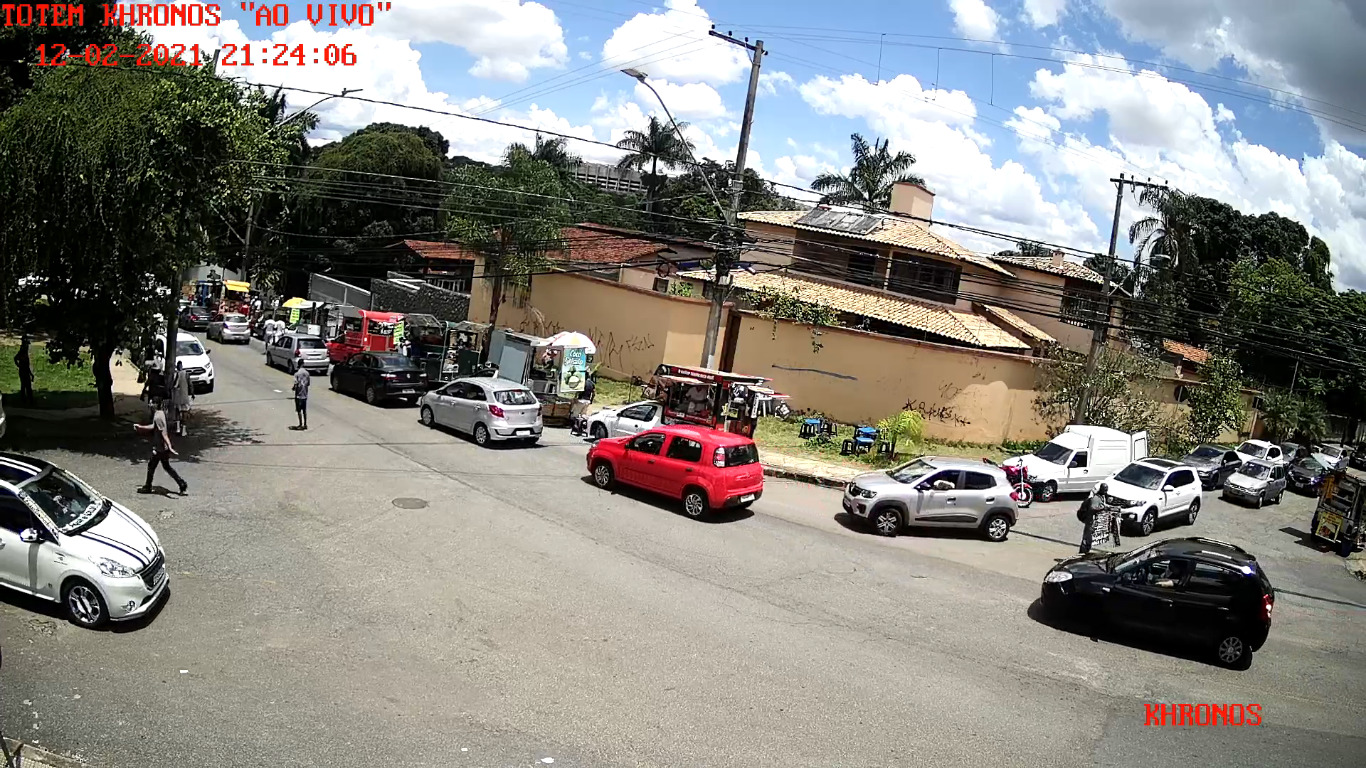car: (1039, 536, 1274, 667), (1, 449, 169, 627), (585, 421, 765, 518), (842, 456, 1018, 541), (420, 376, 544, 449)
